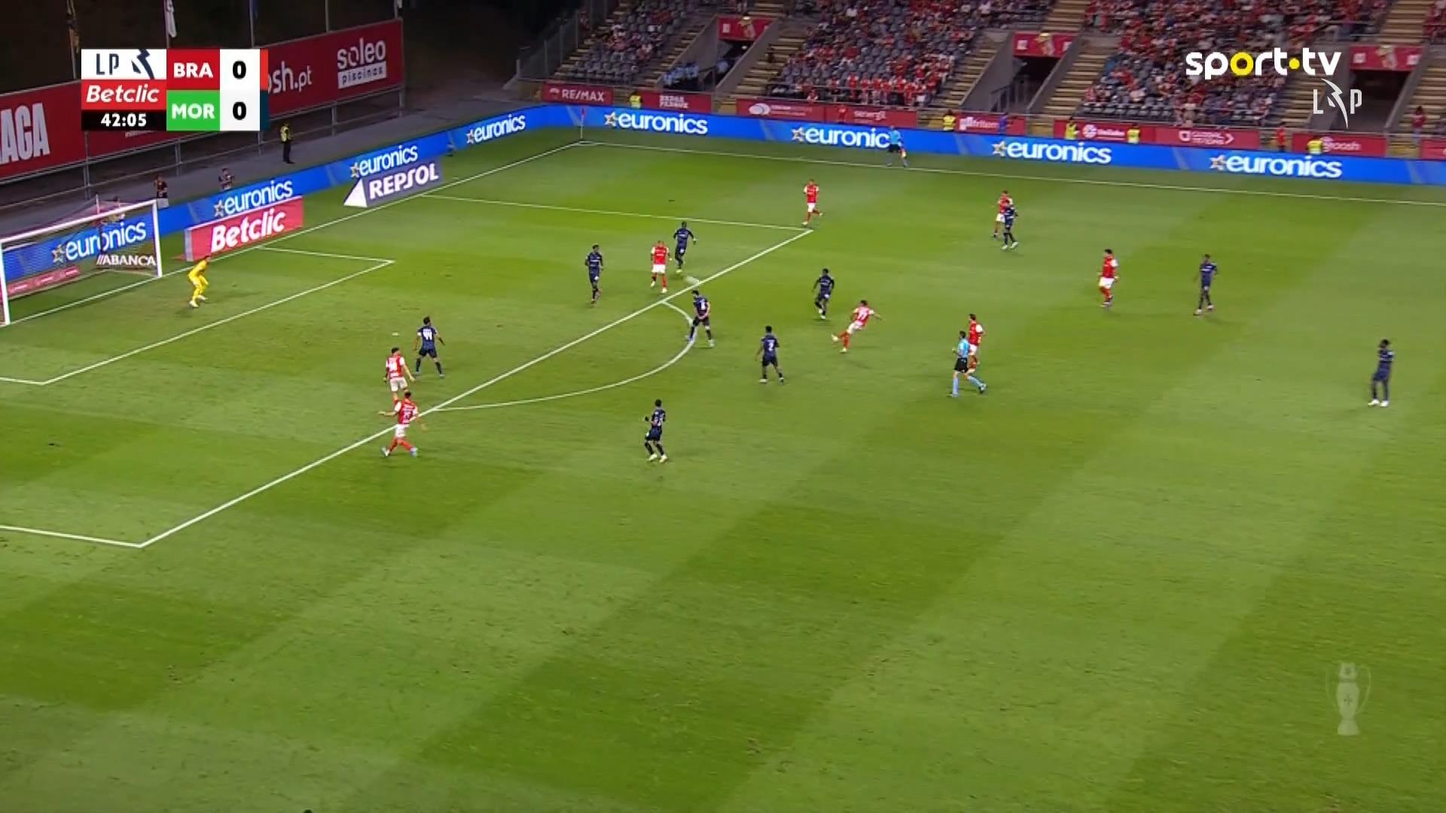ball: (391, 331, 399, 337)
goalkeeper: (186, 257, 209, 308)
player: (377, 389, 427, 458), (831, 298, 883, 353), (412, 315, 445, 378), (382, 346, 413, 411), (1367, 337, 1394, 406), (755, 324, 786, 384), (685, 288, 715, 348), (641, 398, 668, 463), (1192, 252, 1218, 315), (1096, 248, 1119, 308), (672, 220, 697, 273), (810, 266, 834, 319), (584, 242, 604, 305), (965, 312, 985, 373), (648, 239, 670, 294), (801, 177, 822, 227), (992, 189, 1013, 239), (999, 200, 1019, 250)
referee: (947, 329, 987, 397), (884, 123, 909, 169)
